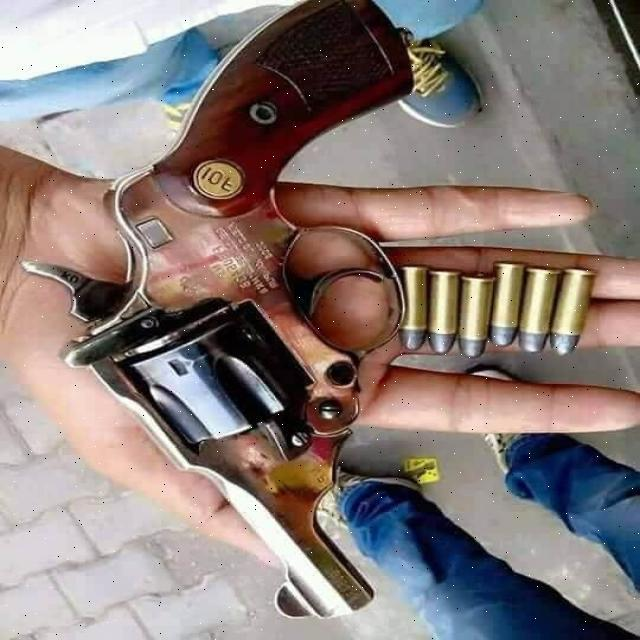gun: (53, 0, 428, 612)
